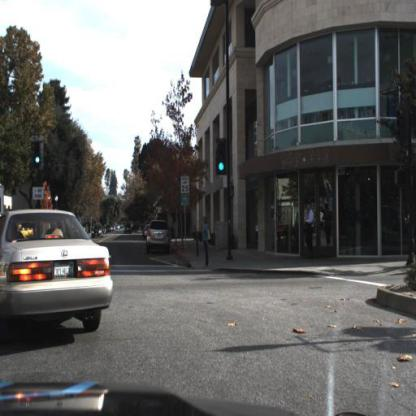car: (1, 208, 115, 332), (146, 220, 172, 255), (6, 220, 37, 246)
pedestrian: (305, 204, 315, 258), (202, 218, 211, 265)
trafficLight: (217, 144, 227, 173), (34, 142, 43, 165)
trafficLight-Green: (217, 145, 227, 173)
